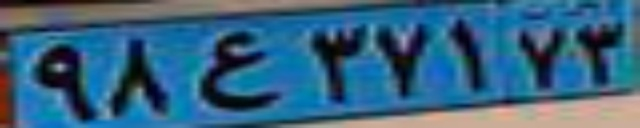1: (444, 18, 488, 93)
3: (308, 24, 368, 102), (576, 20, 629, 87)
7: (371, 20, 431, 100), (512, 23, 572, 89)
8: (103, 37, 171, 118)
9: (32, 41, 97, 122)
ain: (192, 29, 281, 112)
